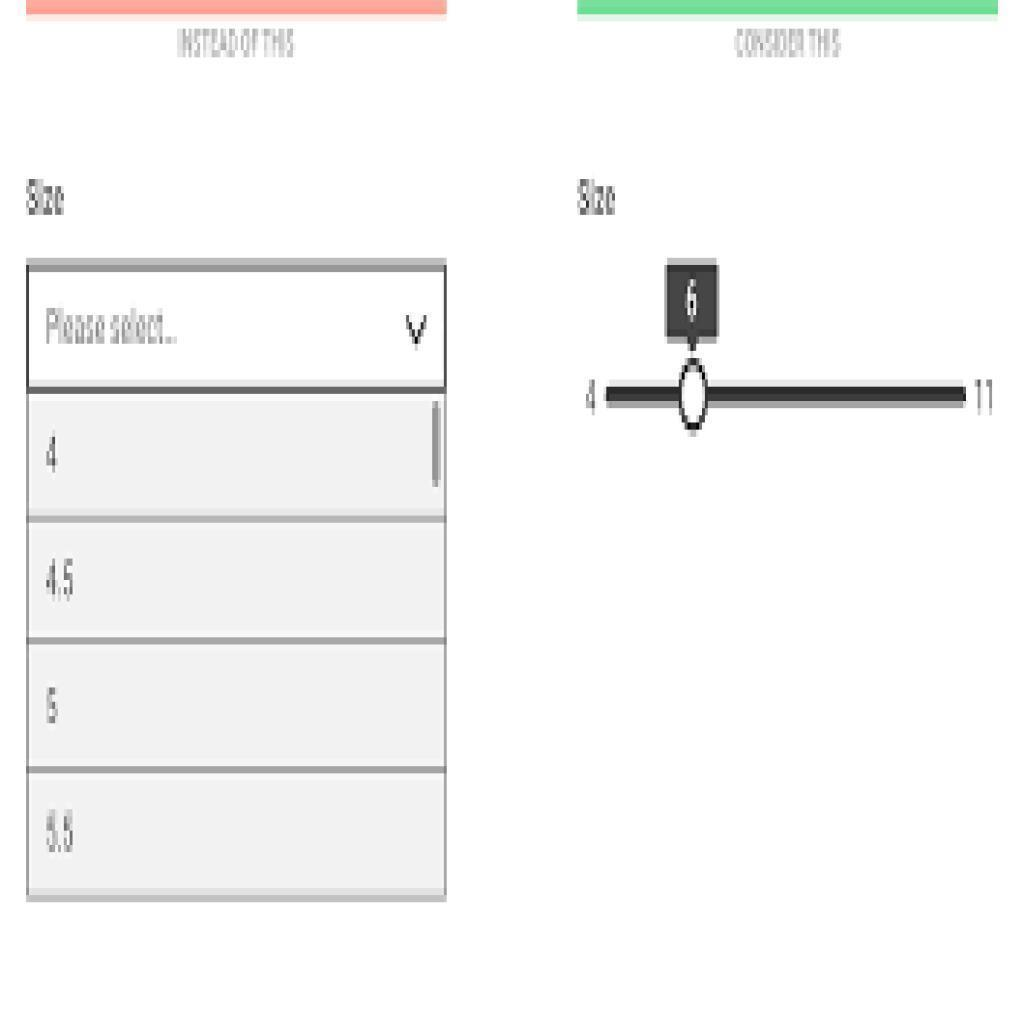dropdown: (24, 269, 449, 386)
